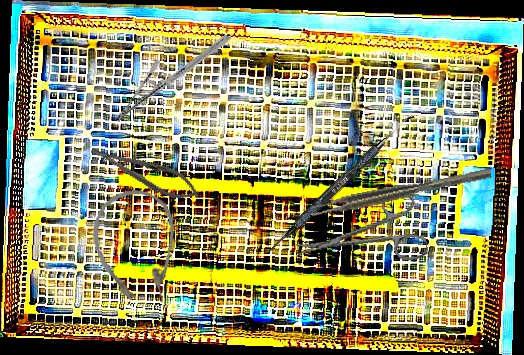Cannula: (86, 185, 186, 312)
Iris Scissors: (289, 188, 430, 282)
Needle Holder: (113, 7, 232, 150), (86, 136, 204, 208)
Spatula Surgical: (265, 109, 415, 259)
Tissue Forceps: (309, 167, 493, 219)
